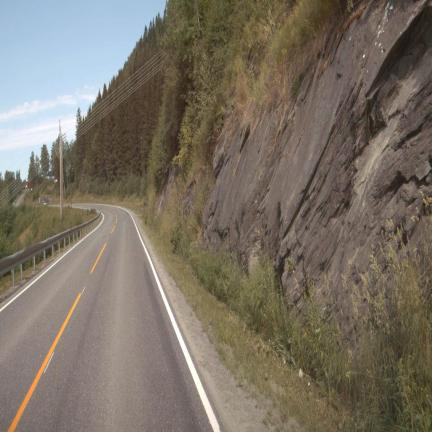Road: (0, 206, 218, 430)
